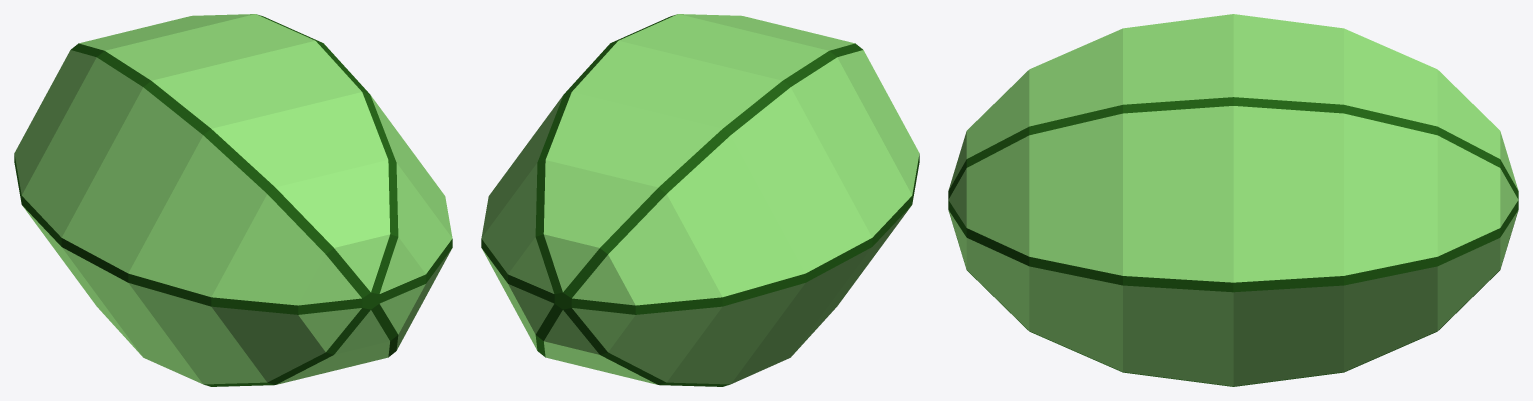
The model's file is lowpoly_melon.fbx.
3 views of the same model, side by side, from view 1: azimuth 30°, elevation 25°; view 2: azimuth 150°, elevation 25°; view 3: azimuth 270°, elevation 25° (orthographic). The views are drawn at different scales.
Visible parts, largest first — view 1: Sphere; view 2: Sphere; view 3: Sphere.
Boxes of the visible parts, bbox=[...] form: Sphere: bbox=[14, 14, 452, 386]; Sphere: bbox=[481, 14, 919, 386]; Sphere: bbox=[948, 14, 1518, 386].
Size of the model in its own units: 223 by 173 by 309.
